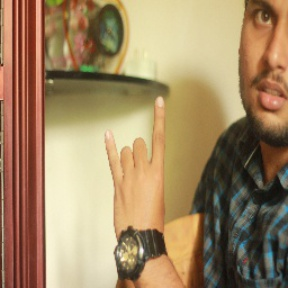V: (103, 92, 172, 238)
